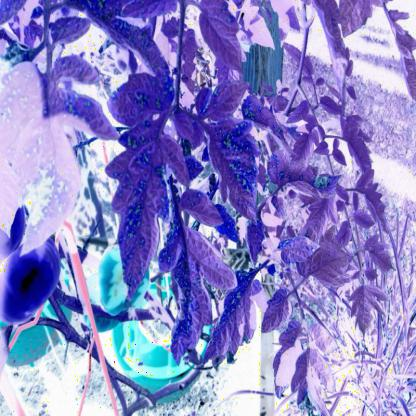tomato septoria leaf spot: (107, 69, 196, 295), (5, 45, 100, 255), (153, 215, 232, 346), (200, 267, 279, 376), (69, 1, 167, 71), (210, 116, 263, 221), (275, 228, 320, 269)
